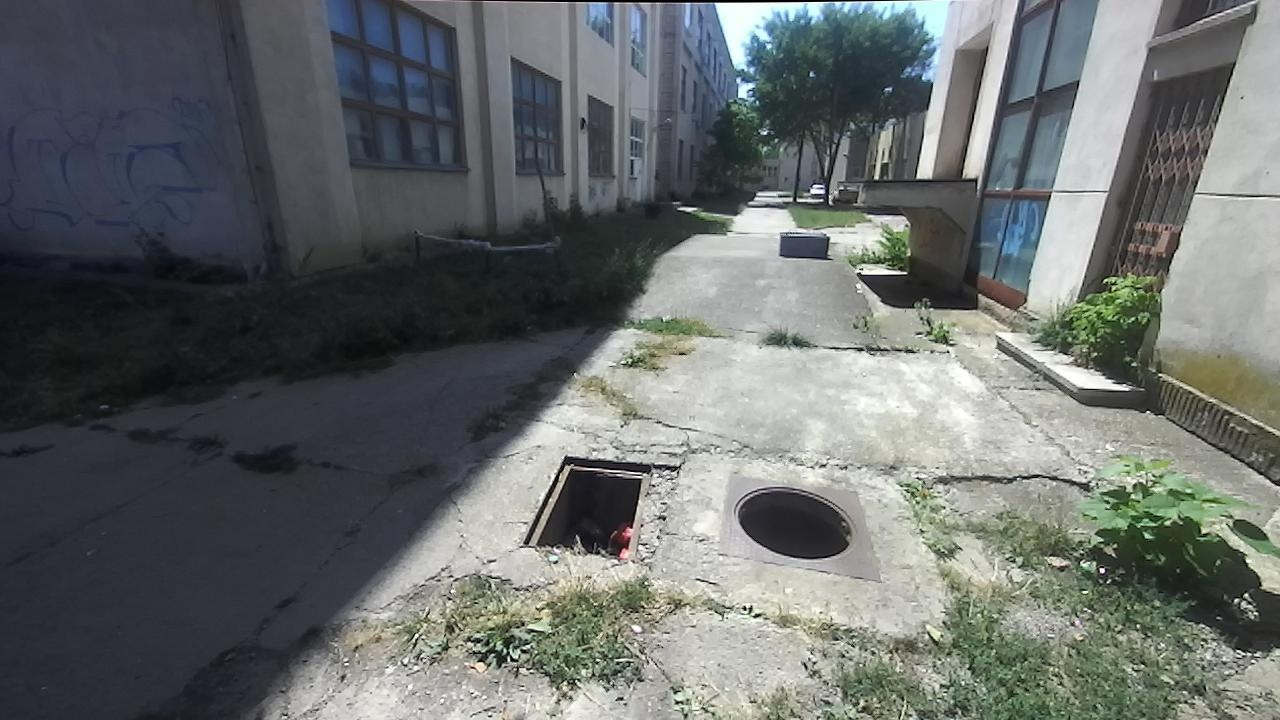drain: (513, 452, 674, 555), (734, 484, 855, 560)
